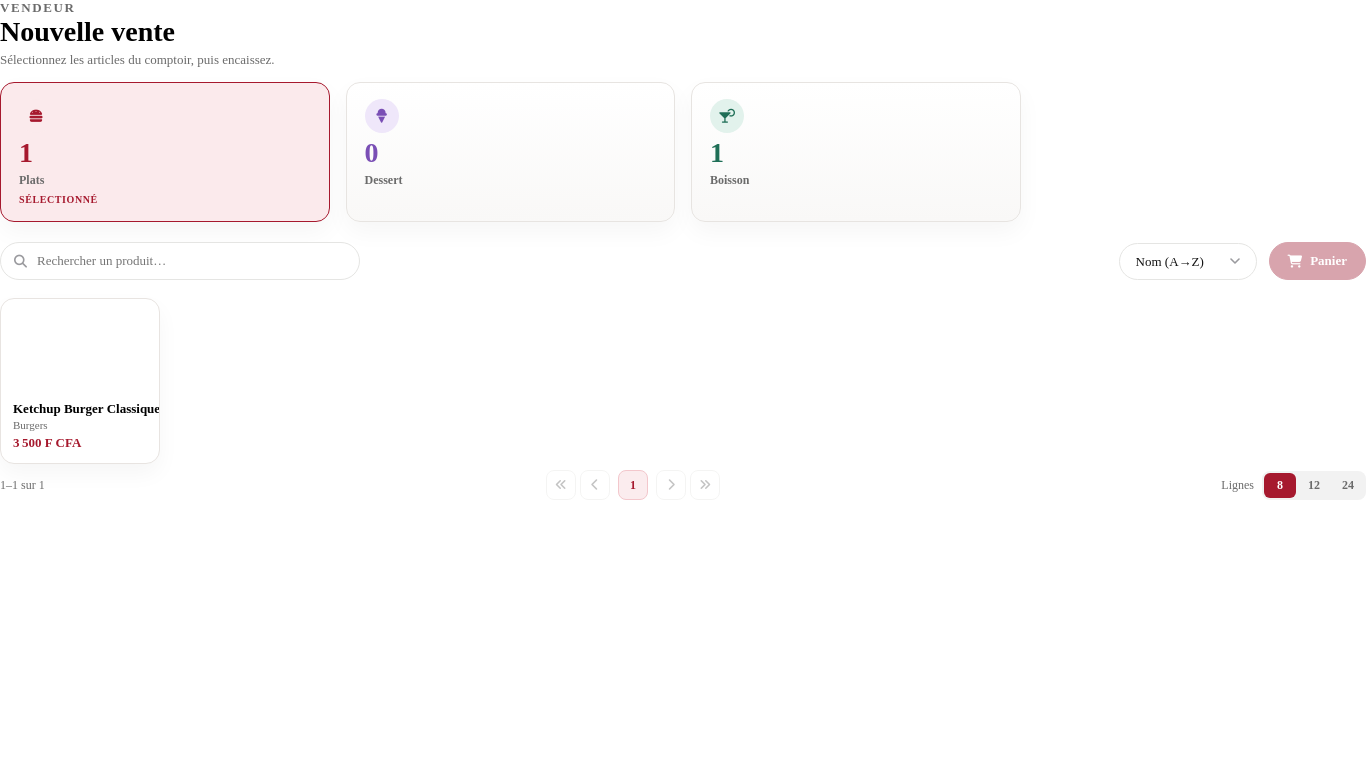
Scenario: Vente (caisse Vendeur) › permet de choisir un accompagnement via le sous-modal, qui se referme et met à jour le total de la ligne
Click the text "Ketchup Burger Classique": x=87, y=409 [13, 401, 160, 417]
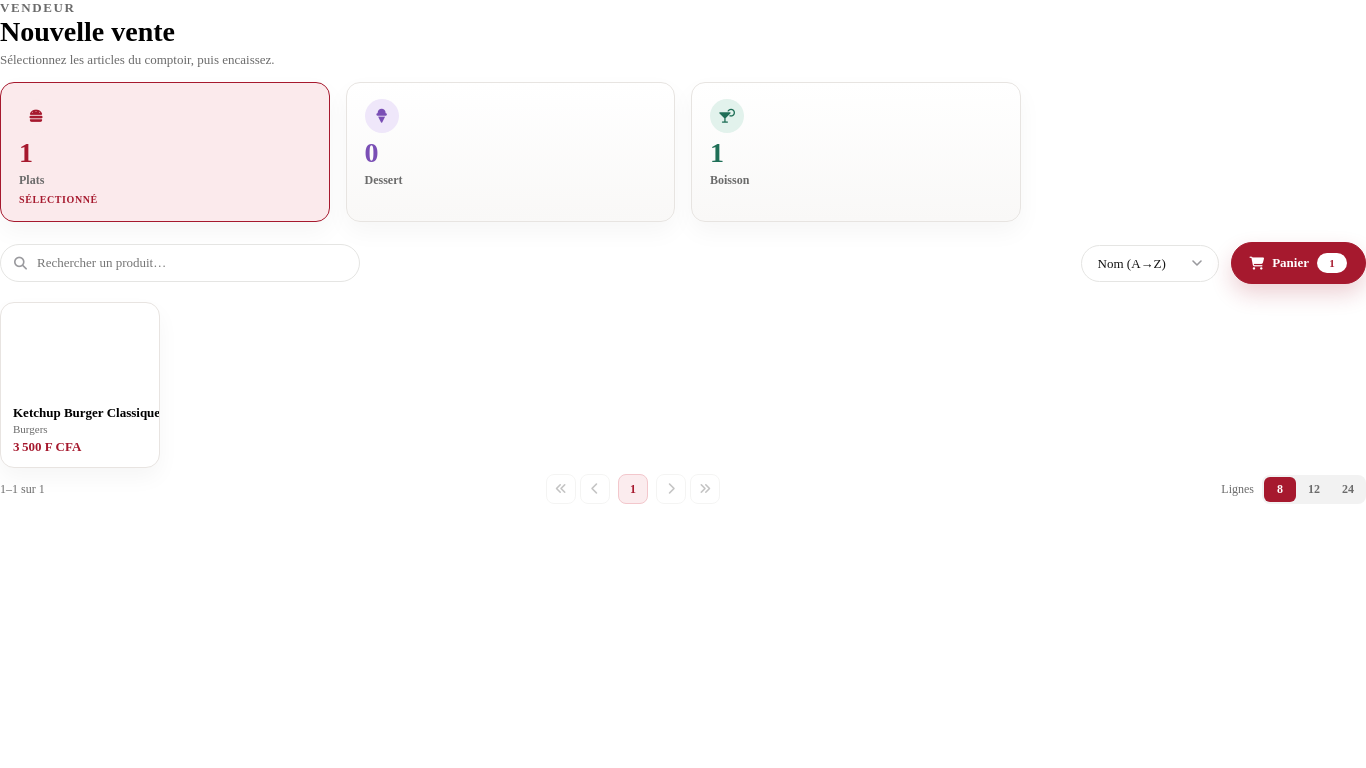
Click the button with aria-label "Ouvrir le panier": x=1298, y=263 [1230, 242, 1365, 284]
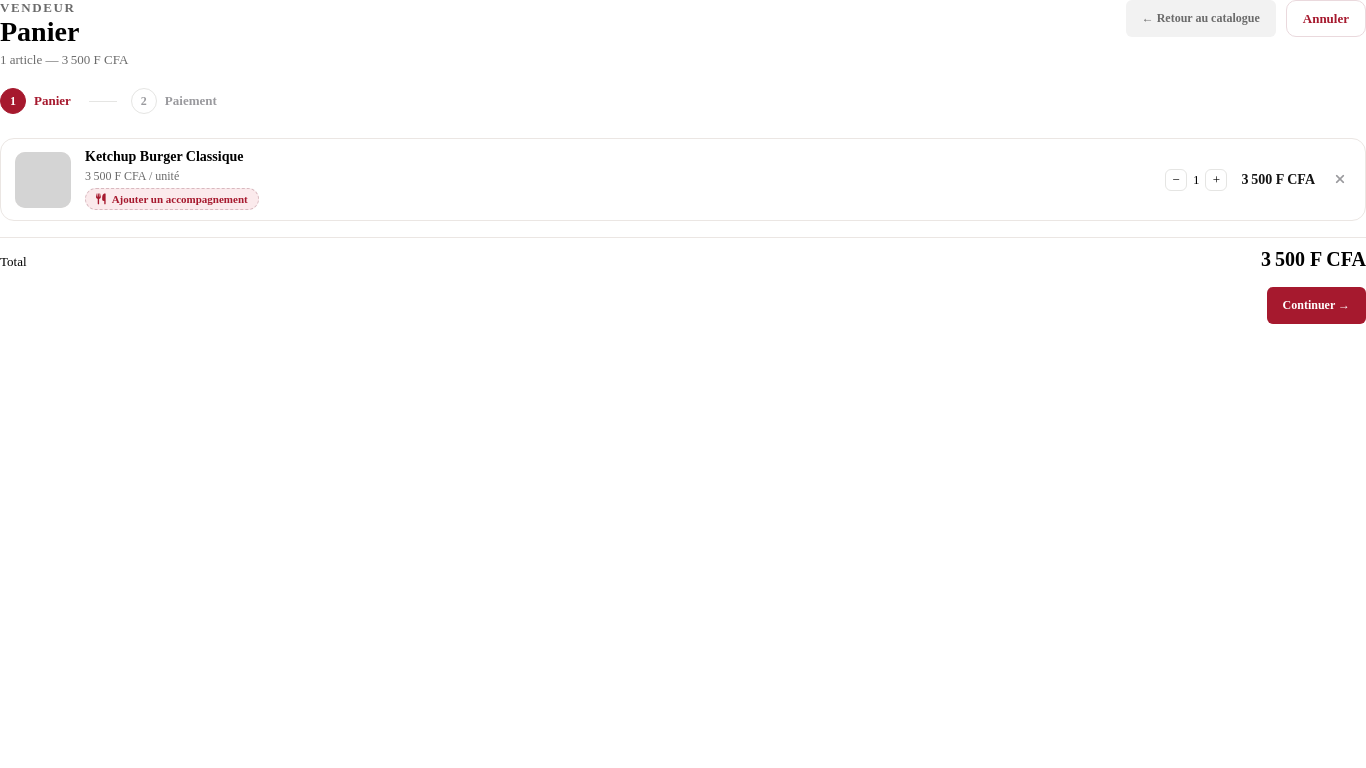
Click the button "Ajouter un accompagnement": x=172, y=199 [85, 188, 259, 210]
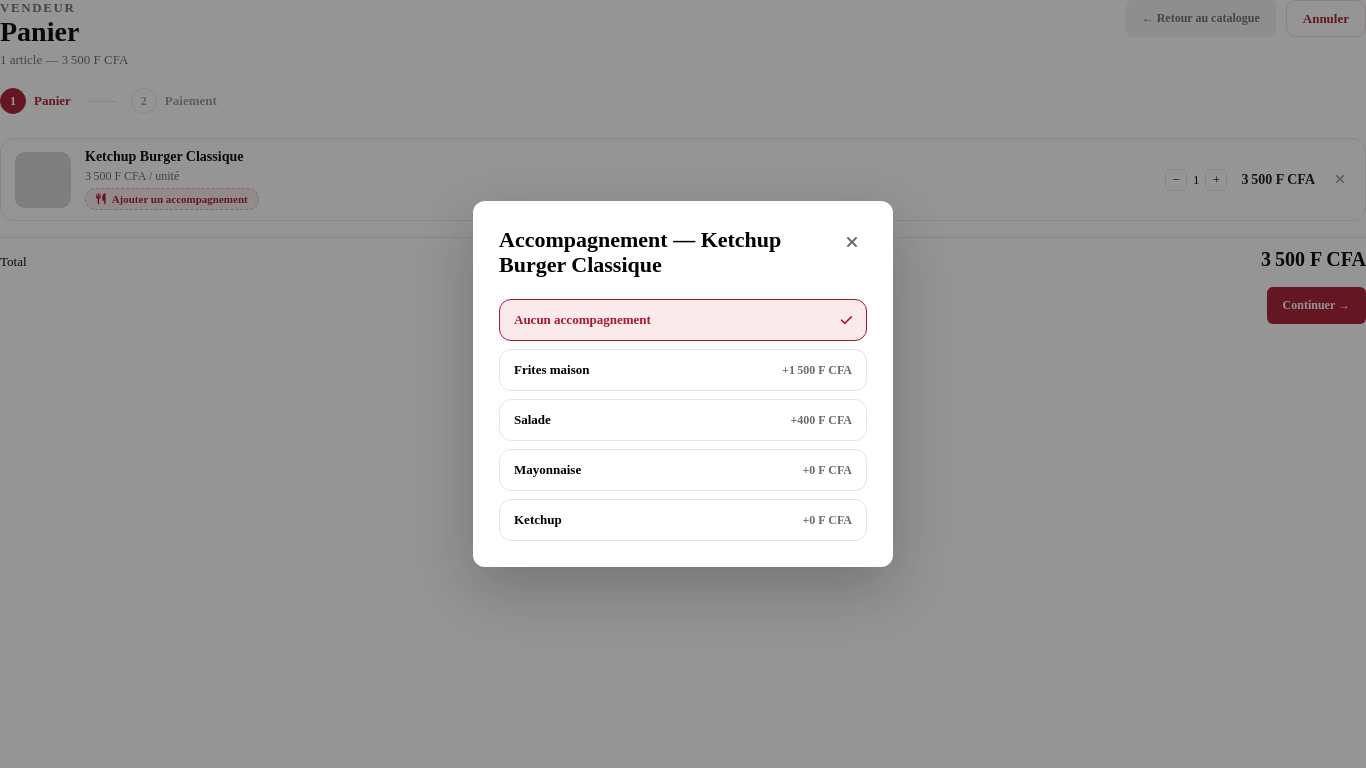
Expected: the heading "Accompagnement — Ketchup Burger Classique" is shown, [499, 227, 821, 277]
Click the button "Frites maison +1 500 F CFA": x=552, y=370 [499, 349, 867, 391]
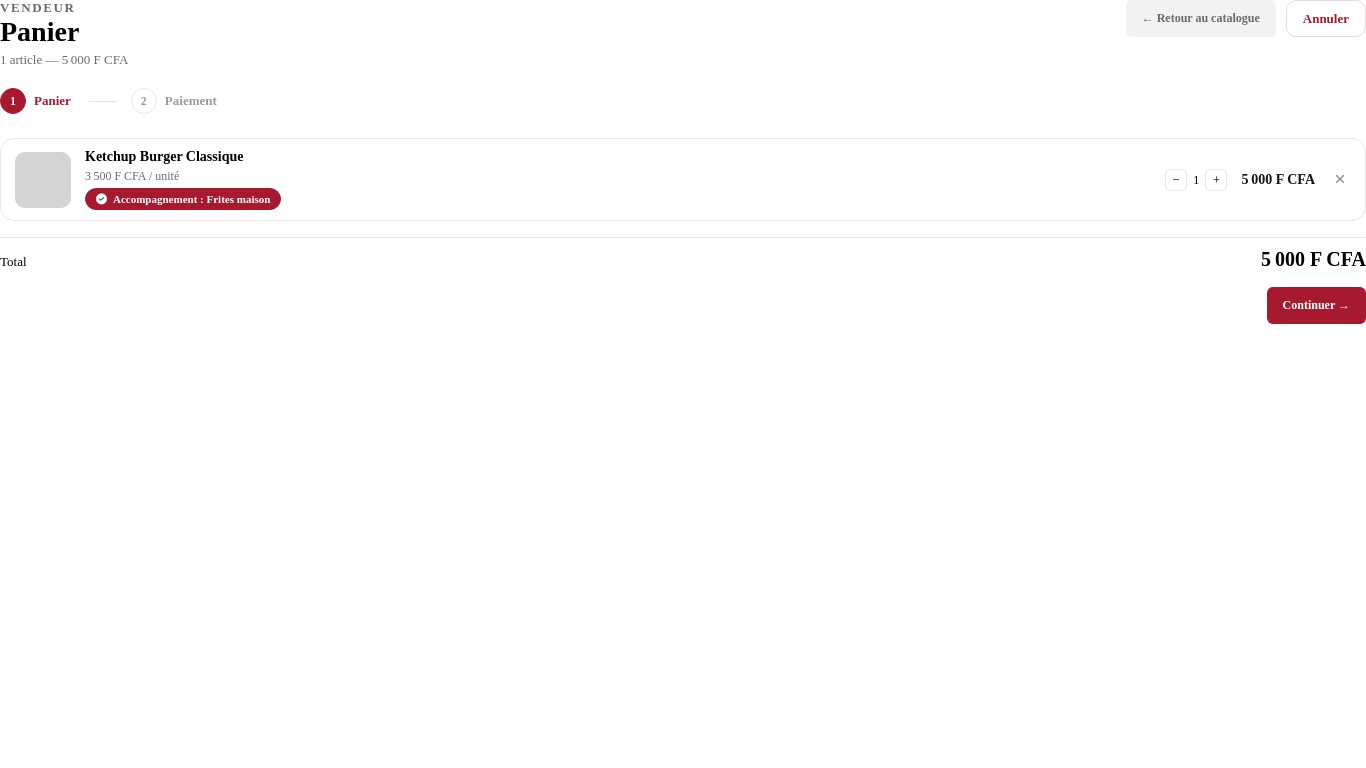
Expected: the dialog is gone
Expected: the button "Accompagnement : Frites maison" is shown, [85, 188, 281, 210]
